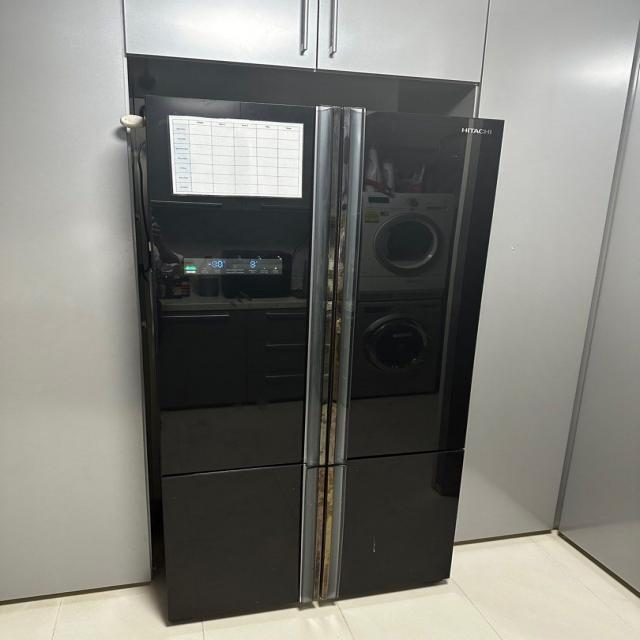refrigerator: (137, 94, 510, 629)
